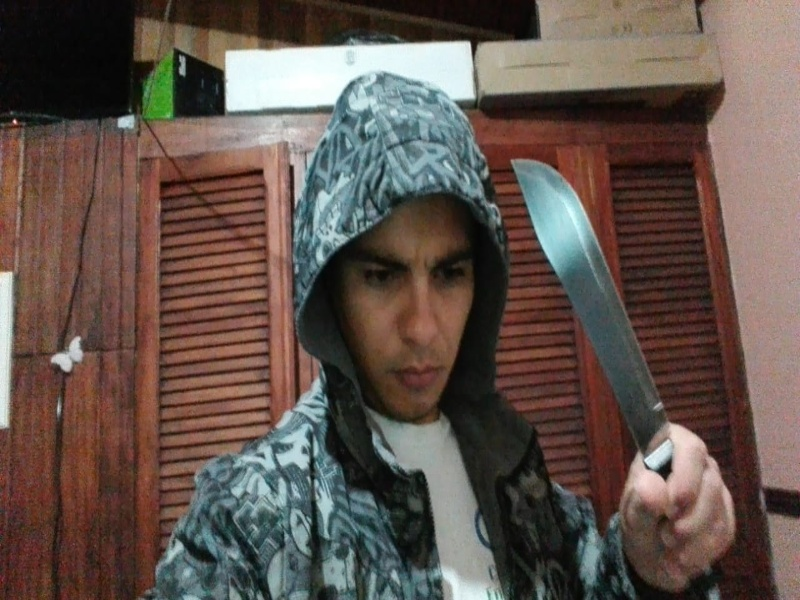bonnet: (291, 70, 505, 411)
hand: (616, 425, 738, 599)
knife: (509, 157, 690, 472)
person: (141, 71, 740, 600)
